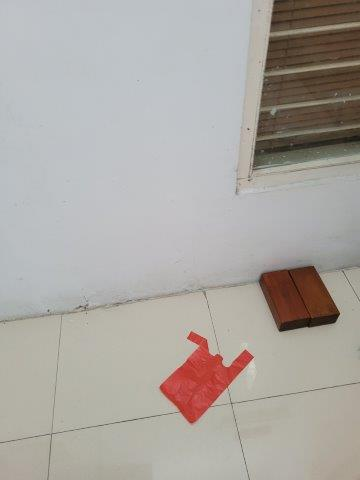plastik: (159, 333, 254, 422)
